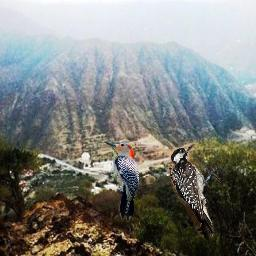Woodpecker: (164, 140, 228, 240), (98, 142, 139, 222)
